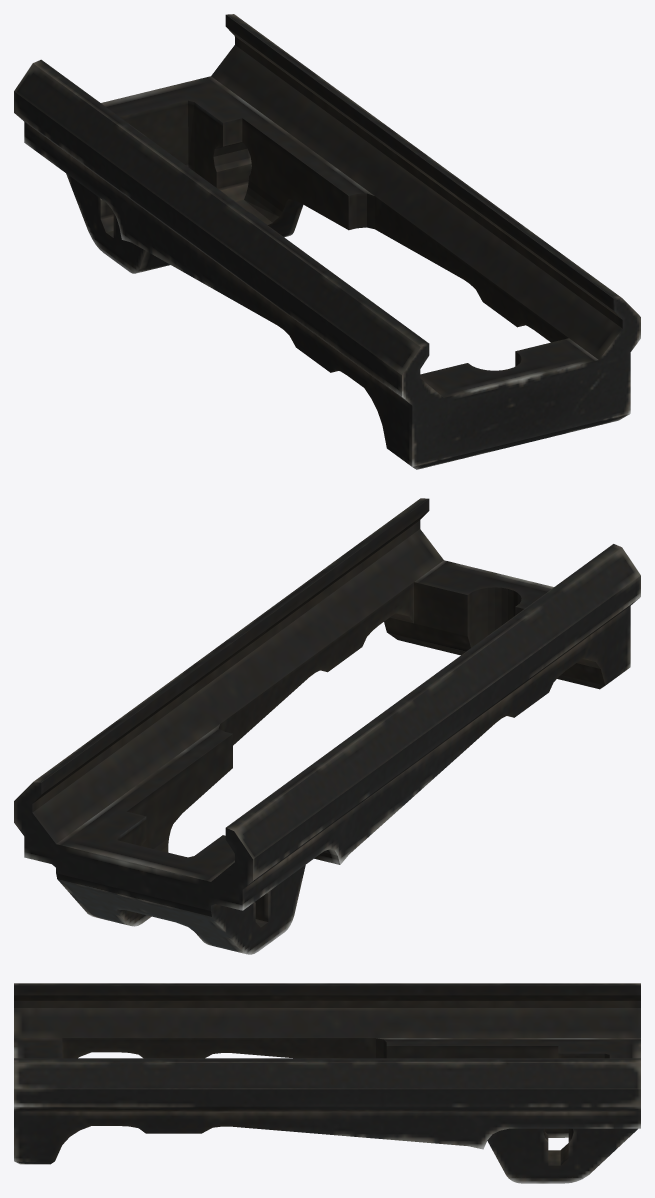
The picture shows the model from 3 angles, top to bottom: view 1: azimuth 30°, elevation 25°; view 2: azimuth 150°, elevation 25°; view 3: azimuth 270°, elevation 25°; orthographic projection. The views are drawn at different scales.
Parts seen in each view (by area): view 1: TW_5beec9450db83400970084fd_PZ_Import; view 2: TW_5beec9450db83400970084fd_PZ_Import; view 3: TW_5beec9450db83400970084fd_PZ_Import.
Boxes of the visible parts, left/top/right/bottom form: TW_5beec9450db83400970084fd_PZ_Import: left=14, top=14, right=640, bottom=469; TW_5beec9450db83400970084fd_PZ_Import: left=14, top=498, right=640, bottom=954; TW_5beec9450db83400970084fd_PZ_Import: left=14, top=983, right=640, bottom=1183.
Bounding box in the file's own units: 0.0144 × 0.0405 × 0.00935.
Materials: 1 (1 with a texture image).
